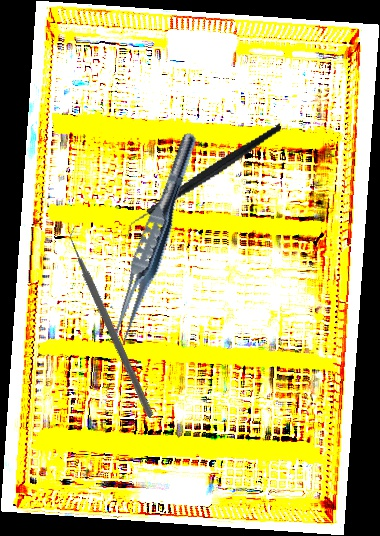Chopper: (9, 221, 219, 419), (110, 122, 298, 240)
Tissue Forceps: (104, 128, 203, 353)
